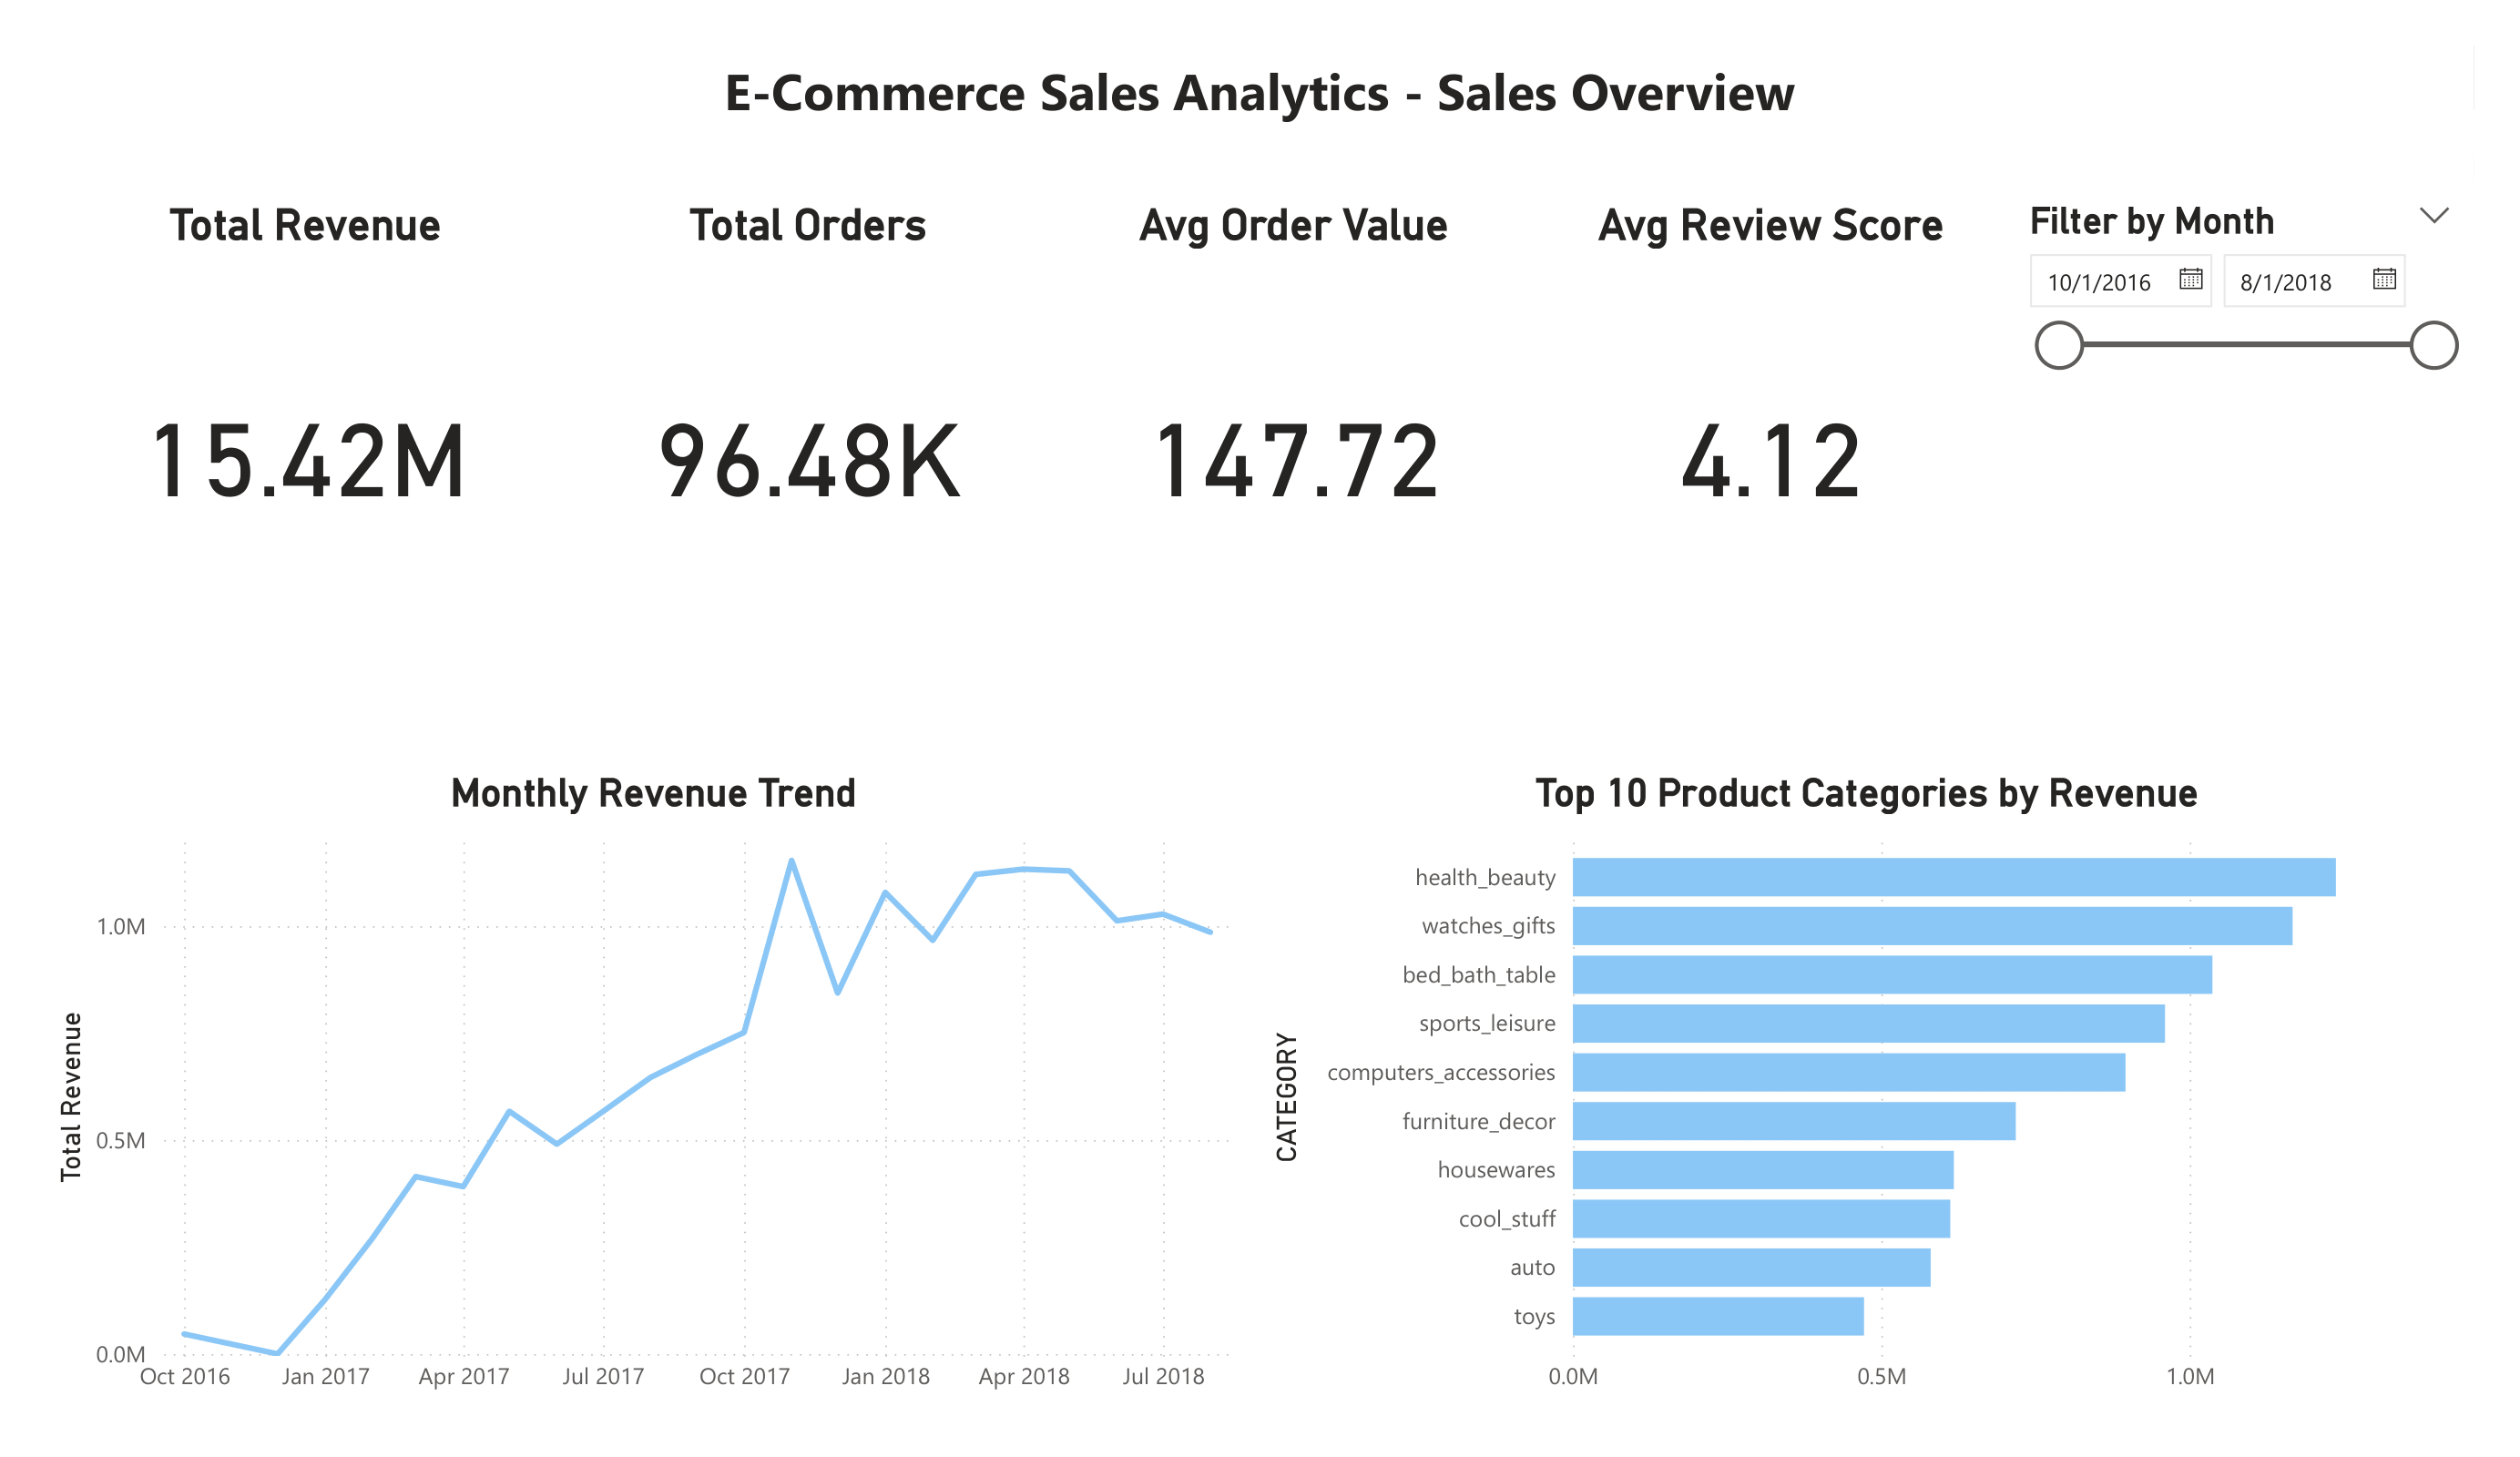

This screenshot's page, from the dashboard's own definition file:
{"tool":"powerbi","page":{"name":"Sales Overview","canvas":[1280,720],"ordinal":0},"visuals":[{"type":"card","title":"Total Revenue","fields":{"Values":["Sum(MART_MONTHLY_REVENUE.TOTAL_REVENUE)"]},"box":[0,71.2,274.1,249.8],"z":0},{"type":"card","title":"Total Orders","fields":{"Values":["Sum(MART_MONTHLY_REVENUE.TOTAL_ORDERS)"]},"box":[274.1,71.2,255.9,249.8],"z":1000},{"type":"card","title":"Avg Order Value","fields":{"Values":["Avg(MART_MONTHLY_REVENUE.AVG_ORDER_VALUE)"]},"box":[530,71.2,255.9,249.8],"z":2000},{"type":"card","title":"Avg Review Score","fields":{"Values":["Avg(MART_PRODUCT_PERFORMANCE.AVG_REVIEW_SCORE)"]},"box":[785.9,71.2,246.8,249.8],"z":3000},{"type":"lineChart","title":"Monthly Revenue Trend","fields":{"Category":["MART_MONTHLY_REVENUE.ORDER_MONTH"],"Y":["Sum(MART_MONTHLY_REVENUE.TOTAL_REVENUE)"]},"box":[0,381.7,640.6,338.3],"z":4000},{"type":"clusteredBarChart","title":"Top 10 Product Categories by Revenue","fields":{"Category":["MART_PRODUCT_PERFORMANCE.CATEGORY"],"Y":["Sum(MART_PRODUCT_PERFORMANCE.TOTAL_REVENUE)"]},"box":[640.6,381.7,638.7,338.3],"z":5000},{"type":"textbox","box":[0,0,1280,58.3],"z":6000},{"type":"slicer","fields":{"Values":["MART_MONTHLY_REVENUE.ORDER_MONTH"]},"box":[1032.7,71.2,246.8,169.6],"z":6001}]}

Visuals, with their boxes on the page's 1280x720 design canvas (x1, y1, x2, y2). These are canvas units, not pixel positions in the 2520x1457 screenshot, which may show the page scaled, cropped or inside an application window:
"Total Revenue" card: {"left": 0, "top": 71, "right": 274, "bottom": 321}
"Total Orders" card: {"left": 274, "top": 71, "right": 530, "bottom": 321}
"Avg Order Value" card: {"left": 530, "top": 71, "right": 786, "bottom": 321}
"Avg Review Score" card: {"left": 786, "top": 71, "right": 1033, "bottom": 321}
"Monthly Revenue Trend" lineChart: {"left": 0, "top": 382, "right": 641, "bottom": 720}
"Top 10 Product Categories by Revenue" clusteredBarChart: {"left": 641, "top": 382, "right": 1279, "bottom": 720}
textbox: {"left": 0, "top": 0, "right": 1280, "bottom": 58}
slicer - MART_MONTHLY_REVENUE.ORDER_MONTH: {"left": 1033, "top": 71, "right": 1280, "bottom": 241}
